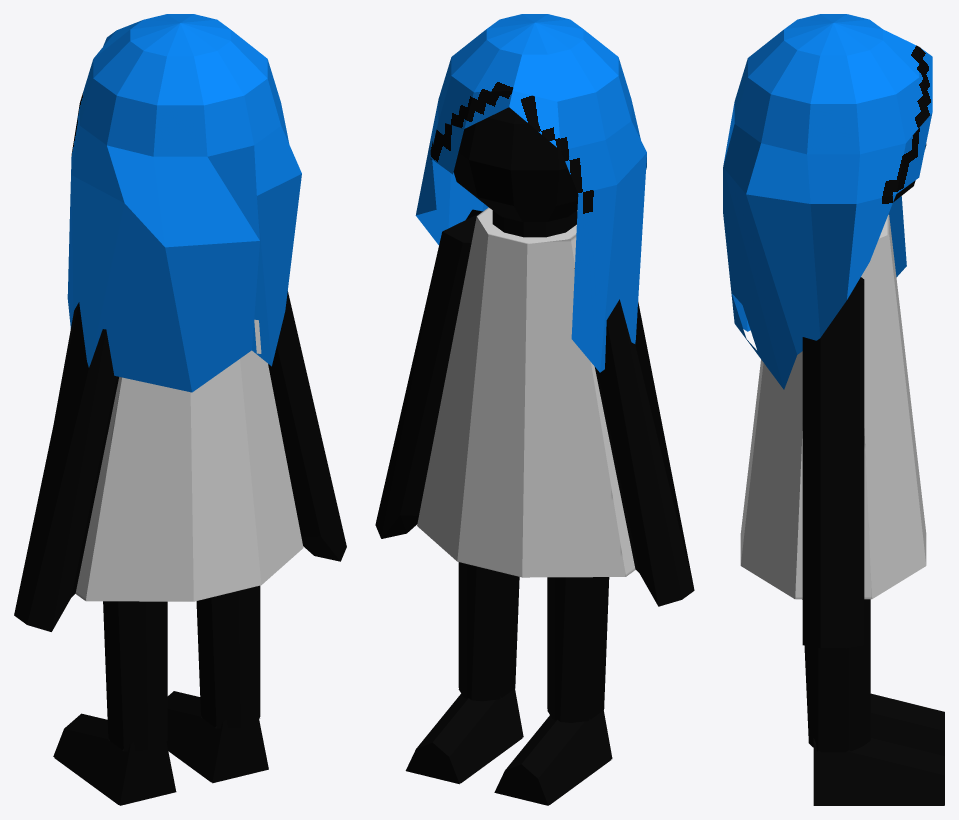
File: Girl.fbx
3 renders of one model, left to right at view 1: azimuth 30°, elevation 25°; view 2: azimuth 150°, elevation 25°; view 3: azimuth 270°, elevation 25°, orthographic. The views are drawn at different scales.
Visible parts, largest first — view 1: Hair, Dress, arm_l, leg_l, arm_r, leg_r, foot_l, foot_r; view 2: Dress, Hair, arm_l, arm_r, Face, leg_l, leg_r, foot_r, foot_l, Neck; view 3: Hair, Dress, arm_r, foot_r, leg_r, foot_l.
Boxes of the visible parts, bbox=[...] form: Hair: bbox=[67, 14, 301, 392]; Dress: bbox=[75, 319, 303, 601]; arm_l: bbox=[14, 302, 118, 631]; leg_l: bbox=[103, 601, 167, 751]; arm_r: bbox=[268, 291, 346, 561]; leg_r: bbox=[196, 585, 260, 728]; foot_l: bbox=[53, 713, 176, 805]; foot_r: bbox=[166, 691, 268, 783]; Dress: bbox=[417, 207, 635, 577]; Hair: bbox=[415, 14, 646, 372]; arm_l: bbox=[574, 268, 694, 606]; arm_r: bbox=[375, 209, 482, 538]; Face: bbox=[453, 107, 578, 221]; leg_l: bbox=[547, 577, 609, 722]; leg_r: bbox=[458, 562, 519, 701]; foot_r: bbox=[405, 689, 523, 784]; foot_l: bbox=[494, 710, 612, 805]; Neck: bbox=[492, 210, 577, 237]; Hair: bbox=[723, 14, 932, 389]; Dress: bbox=[740, 214, 926, 599]; arm_r: bbox=[802, 277, 864, 648]; foot_r: bbox=[813, 738, 944, 805]; leg_r: bbox=[802, 599, 870, 752]; foot_l: bbox=[870, 693, 944, 756].
Size of the model in its own units: 184 by 416 by 112.
6 materials, 6 textured.
